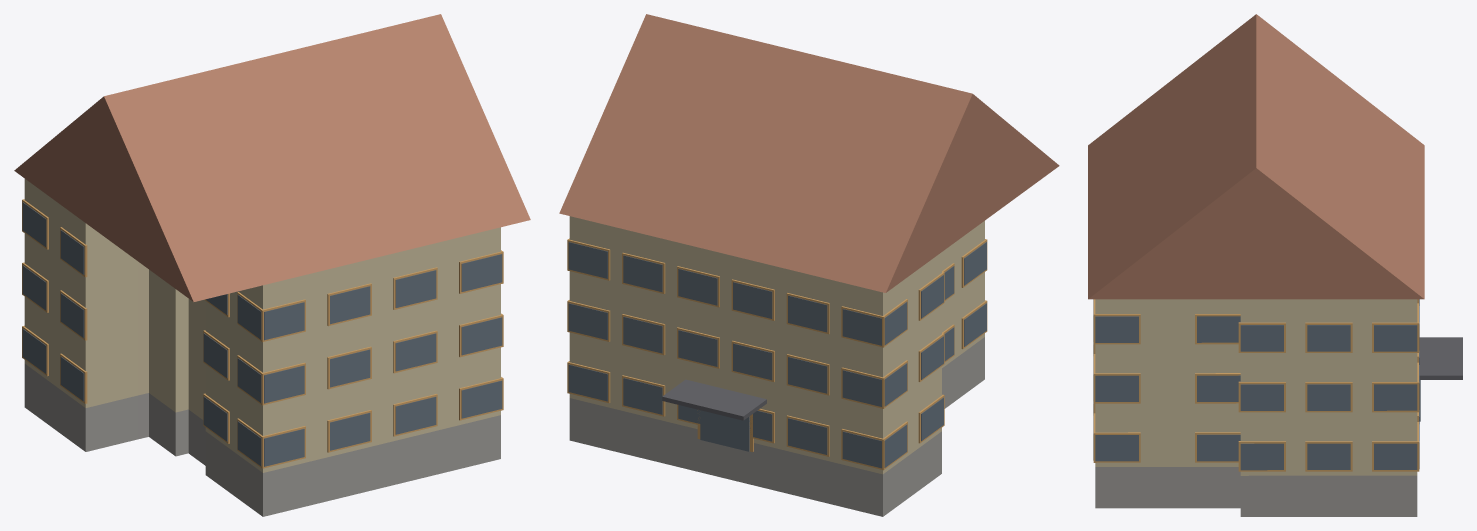
The model's file is landmark-kindergarten-30483982.glb.
3 views of the same model, side by side, from view 1: azimuth 30°, elevation 25°; view 2: azimuth 150°, elevation 25°; view 3: azimuth 270°, elevation 25° (orthographic). The views are drawn at different scales.
Parts seen in each view (by area): view 1: building; view 2: building; view 3: building.
Part boxes in pixels (<box>): building: <box>14,14,530,516</box>; building: <box>559,14,1059,516</box>; building: <box>1088,14,1462,516</box>.
Bounding box in the file's own units: 20.07 × 21.38 × 20.63.
